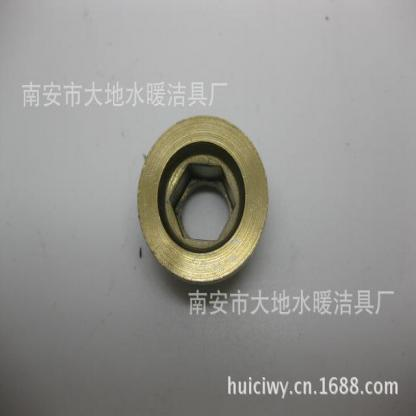FOD: (130, 112, 273, 290)
